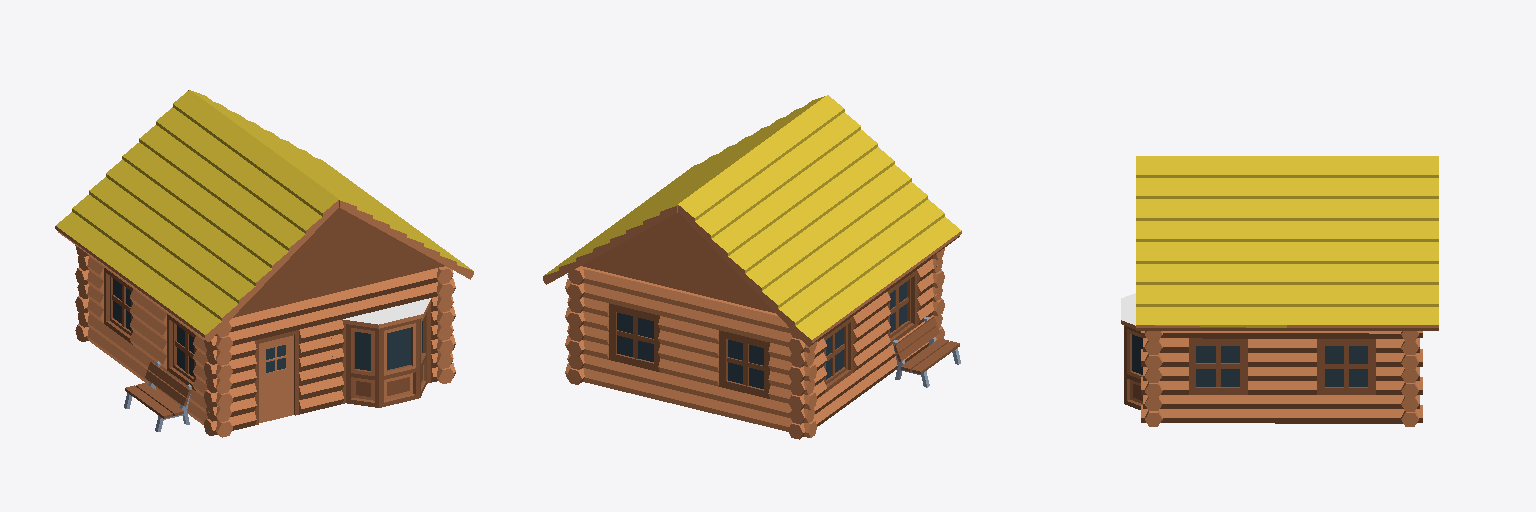
The model's file is Hütte.obj.
3 views of the same model, side by side, from view 1: azimuth 30°, elevation 25°; view 2: azimuth 150°, elevation 25°; view 3: azimuth 270°, elevation 25° (orthographic).
Visible parts, largest first — view 1: cabinRoof_1, cabinRoof_1_1, frame_2, cabinSideCenter, cabinDoor, cabinWindowLarge, cabinWindow_1.1, cabinRoof_2, door, cabinCorner_1_1, cabinWindow_1.2, cabinRoof (+8 smaller); view 2: cabinRoof_1_1, cabinRoof_1, cabinWindow_1.3, cabinWindow_1.4, cabinSideCenter_1, cabinRoof, cabinWindow_1.1, frame.4, cabinWindow_1.2, frame.3, cabinCorner.1, cabinRoof_2 (+6 smaller); view 3: cabinRoof, cabinRoof_2, cabinWindow_1, cabinWindow_1_1, frame_1, frame, frame_2, cabinCorner, cabinCorner_1.
Part boxes in pixels (x1,y1,x2,y2): cabinRoof_1: (130, 144, 338, 341); cabinRoof_1_1: (55, 90, 262, 287); frame_2: (342, 298, 430, 407); cabinSideCenter: (234, 208, 443, 317); cabinDoor: (228, 294, 332, 430); cabinWindowLarge: (331, 267, 439, 406); cabinWindow_1.1: (87, 255, 150, 383); cabinRoof_2: (267, 146, 473, 279); door: (259, 335, 293, 422); cabinCorner_1_1: (204, 322, 232, 437); cabinWindow_1.2: (146, 299, 209, 424); cabinRoof: (188, 90, 396, 214); cabinRoof_1_1: (678, 149, 887, 346); cabinRoof_1: (754, 95, 961, 292); cabinWindow_1.3: (583, 267, 690, 407); cabinWindow_1.4: (687, 293, 792, 431); cabinSideCenter_1: (582, 212, 774, 312); cabinRoof: (543, 151, 749, 284); cabinWindow_1.1: (813, 301, 873, 425); frame.4: (719, 330, 770, 398); cabinWindow_1.2: (870, 257, 937, 388); frame.3: (609, 303, 659, 371); cabinCorner.1: (788, 329, 817, 439); cabinRoof_2: (619, 96, 824, 220); cabinRoof: (1287, 156, 1438, 330); cabinRoof_2: (1136, 156, 1286, 330); cabinWindow_1: (1282, 331, 1404, 423); cabinWindow_1_1: (1159, 331, 1281, 423); frame_1: (1189, 338, 1247, 394); frame: (1317, 339, 1375, 394); frame_2: (1121, 293, 1142, 409); cabinCorner: (1401, 331, 1422, 426); cabinCorner_1: (1141, 331, 1162, 426).
Size of the model in its own units: 262 by 182 by 247.